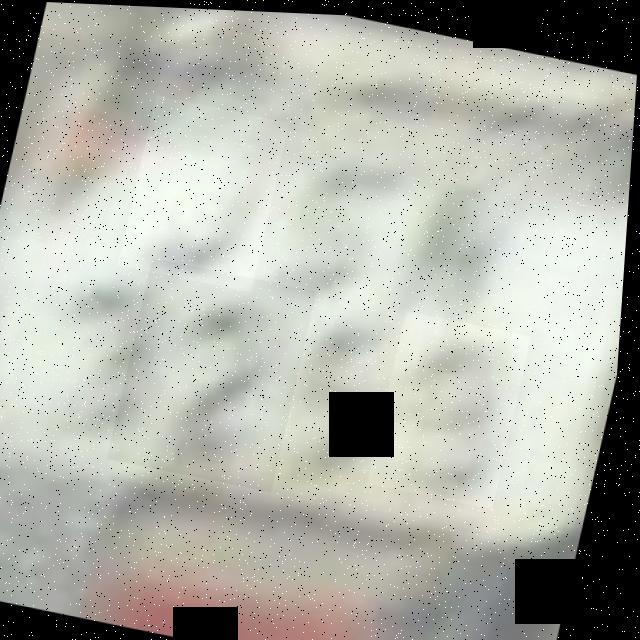2: (112, 255, 322, 491)
5: (249, 290, 425, 496), (373, 306, 537, 505)
J: (121, 93, 292, 291)
N: (379, 140, 539, 338)
